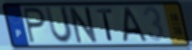3: (142, 5, 167, 44)
A: (122, 6, 149, 44)
N: (68, 6, 101, 45)
P: (22, 6, 47, 45)
T: (95, 8, 115, 42)
U: (44, 6, 75, 46)
